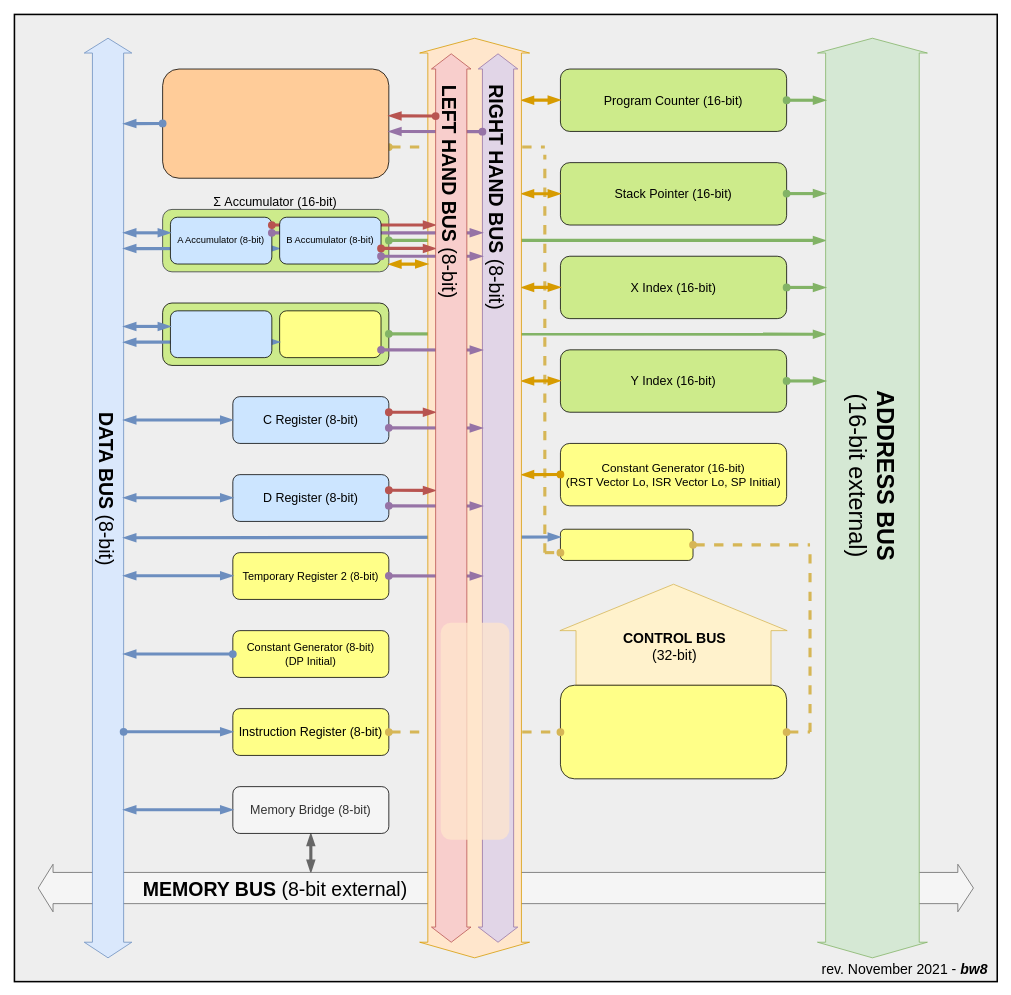
The diagram is 1011 pixels wide and 995 high, and some of its shapes have lost their labels. The centre of each missing label's shape, as x and y in pixels:
Arithmetic and Logic Unit: point (275, 123)
Control Unit: point (673, 731)
Direct Page Hi (8-bit): point (221, 334)
Direct Page Lo (8-bit) / Temporary Register 1: point (330, 334)
Status Register (5-bit) C Z V N I: point (626, 544)
TRANSFER BUS (16-bit / 2x 8-bit): point (474, 730)
